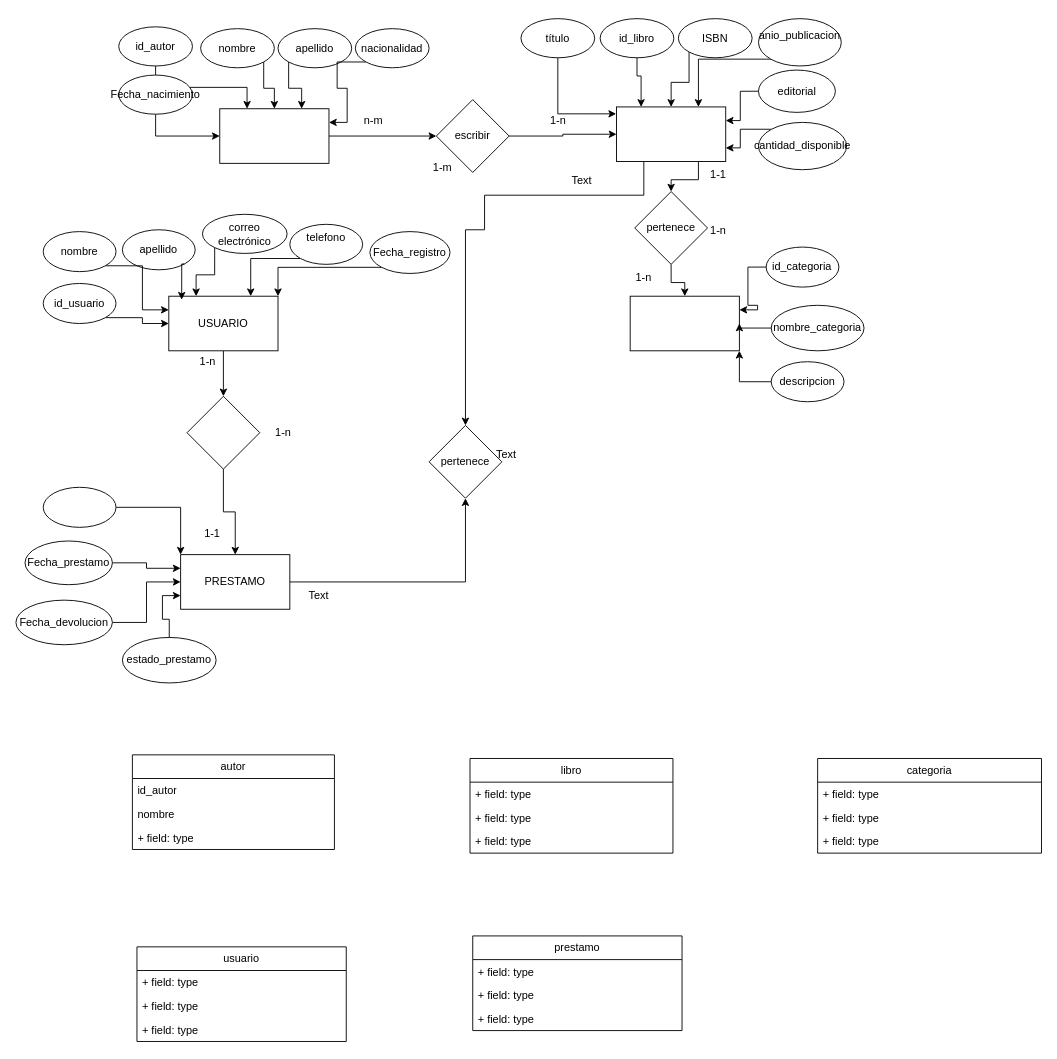
This 1057x1059 diagram has some shape labels left out. Here are the shapes that lost their labels. From the top down, the centre of each, then its label:
At pixel 274 135: "AUTORES".
At pixel 671 134: "LIBROS".
At pixel 684 323: "CATEGORÍA".
At pixel 223 432: "solicita".
At pixel 79 506: "id_prestamo".
